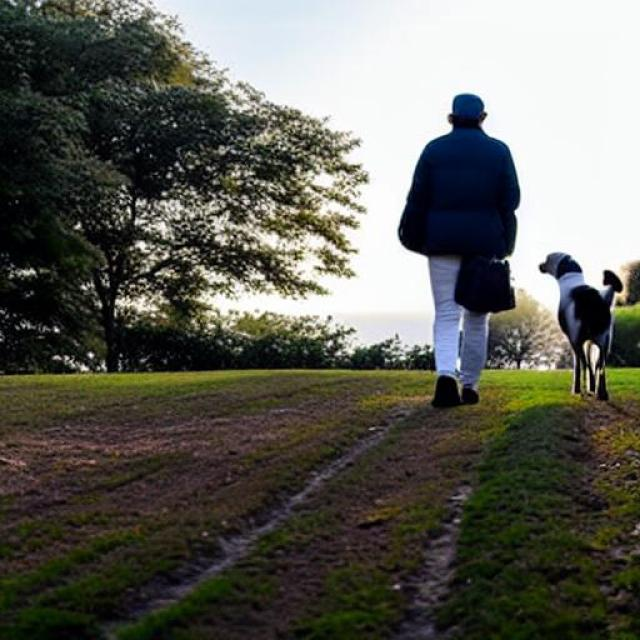Unleashed_Dog: (430, 252, 622, 407)
